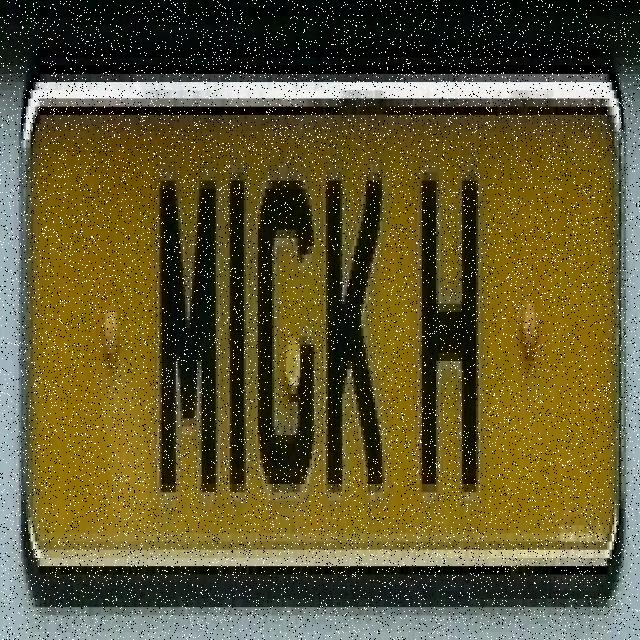licenseplate: (14, 58, 630, 607)
